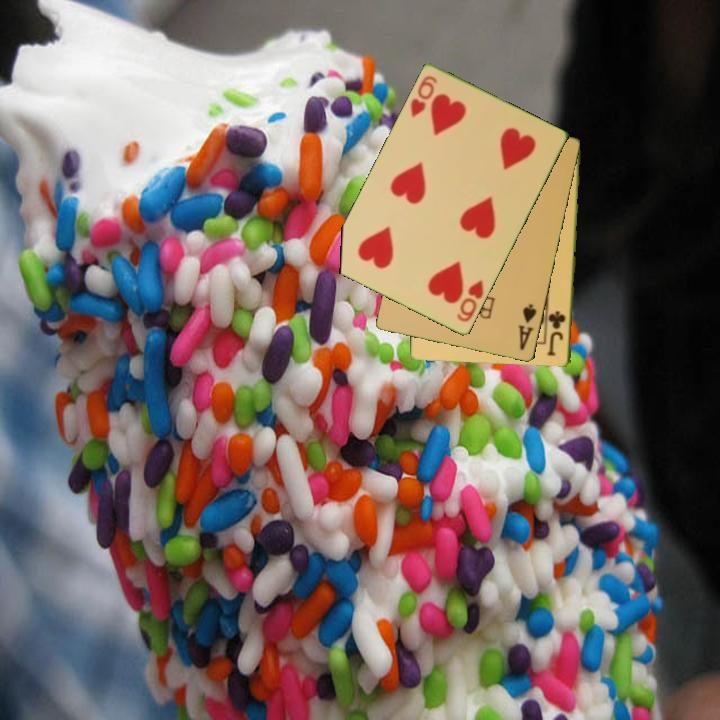6h: (453, 276, 487, 325), (407, 72, 441, 121)
As: (515, 301, 540, 353)
Jc: (545, 308, 568, 359)
